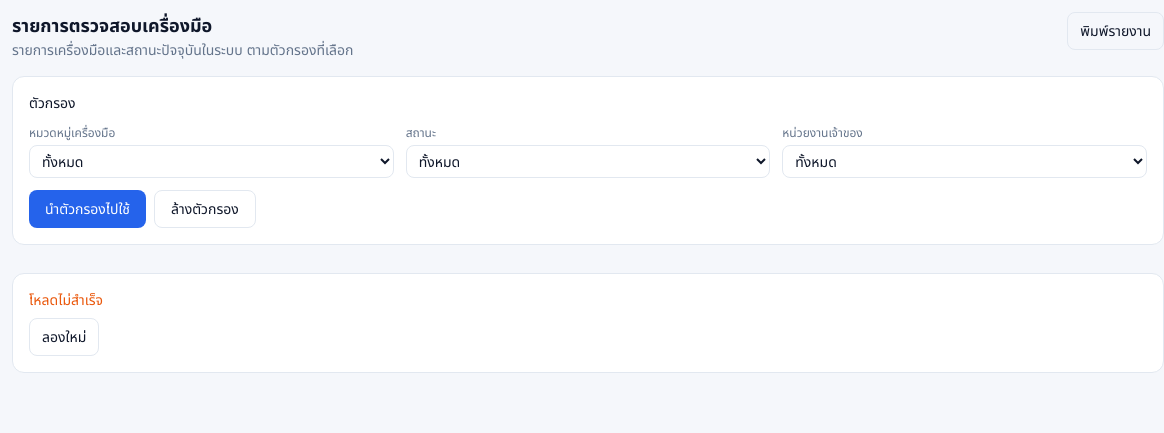
Test: EquipmentVerifyChecklistPage › shows an error state with a retry action, and retry recovers on success
expect the text "โหลดไม่สำเร็จ" is shown: met, box [29,290,103,310]
Click the button "ลองใหม่" at (64, 337), box [29,318,99,356]
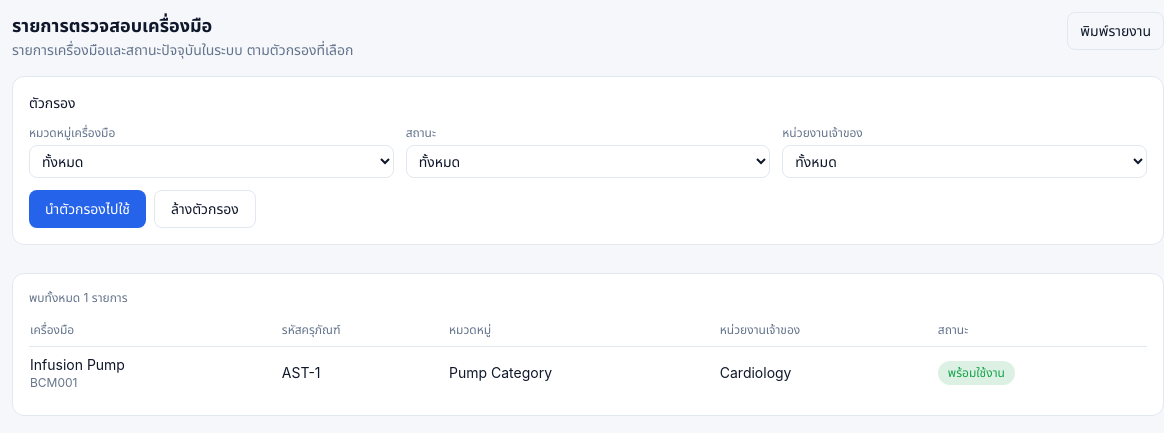
expect the text "โหลดไม่สำเร็จ" is gone: met
expect the text "Infusion Pump" is shown: met, box [30,356,125,373]
